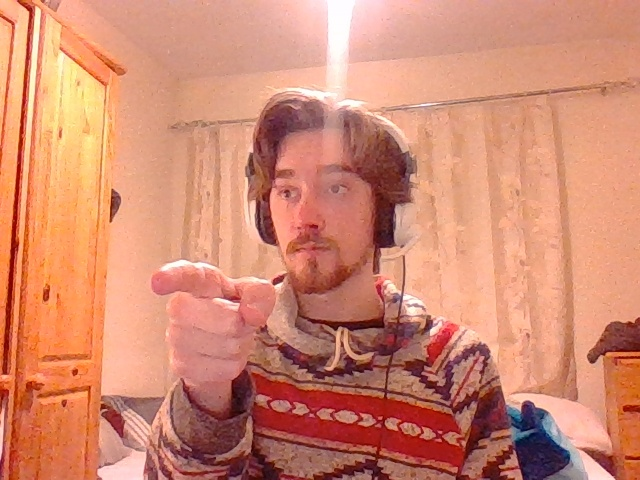you: (150, 262, 277, 382)
